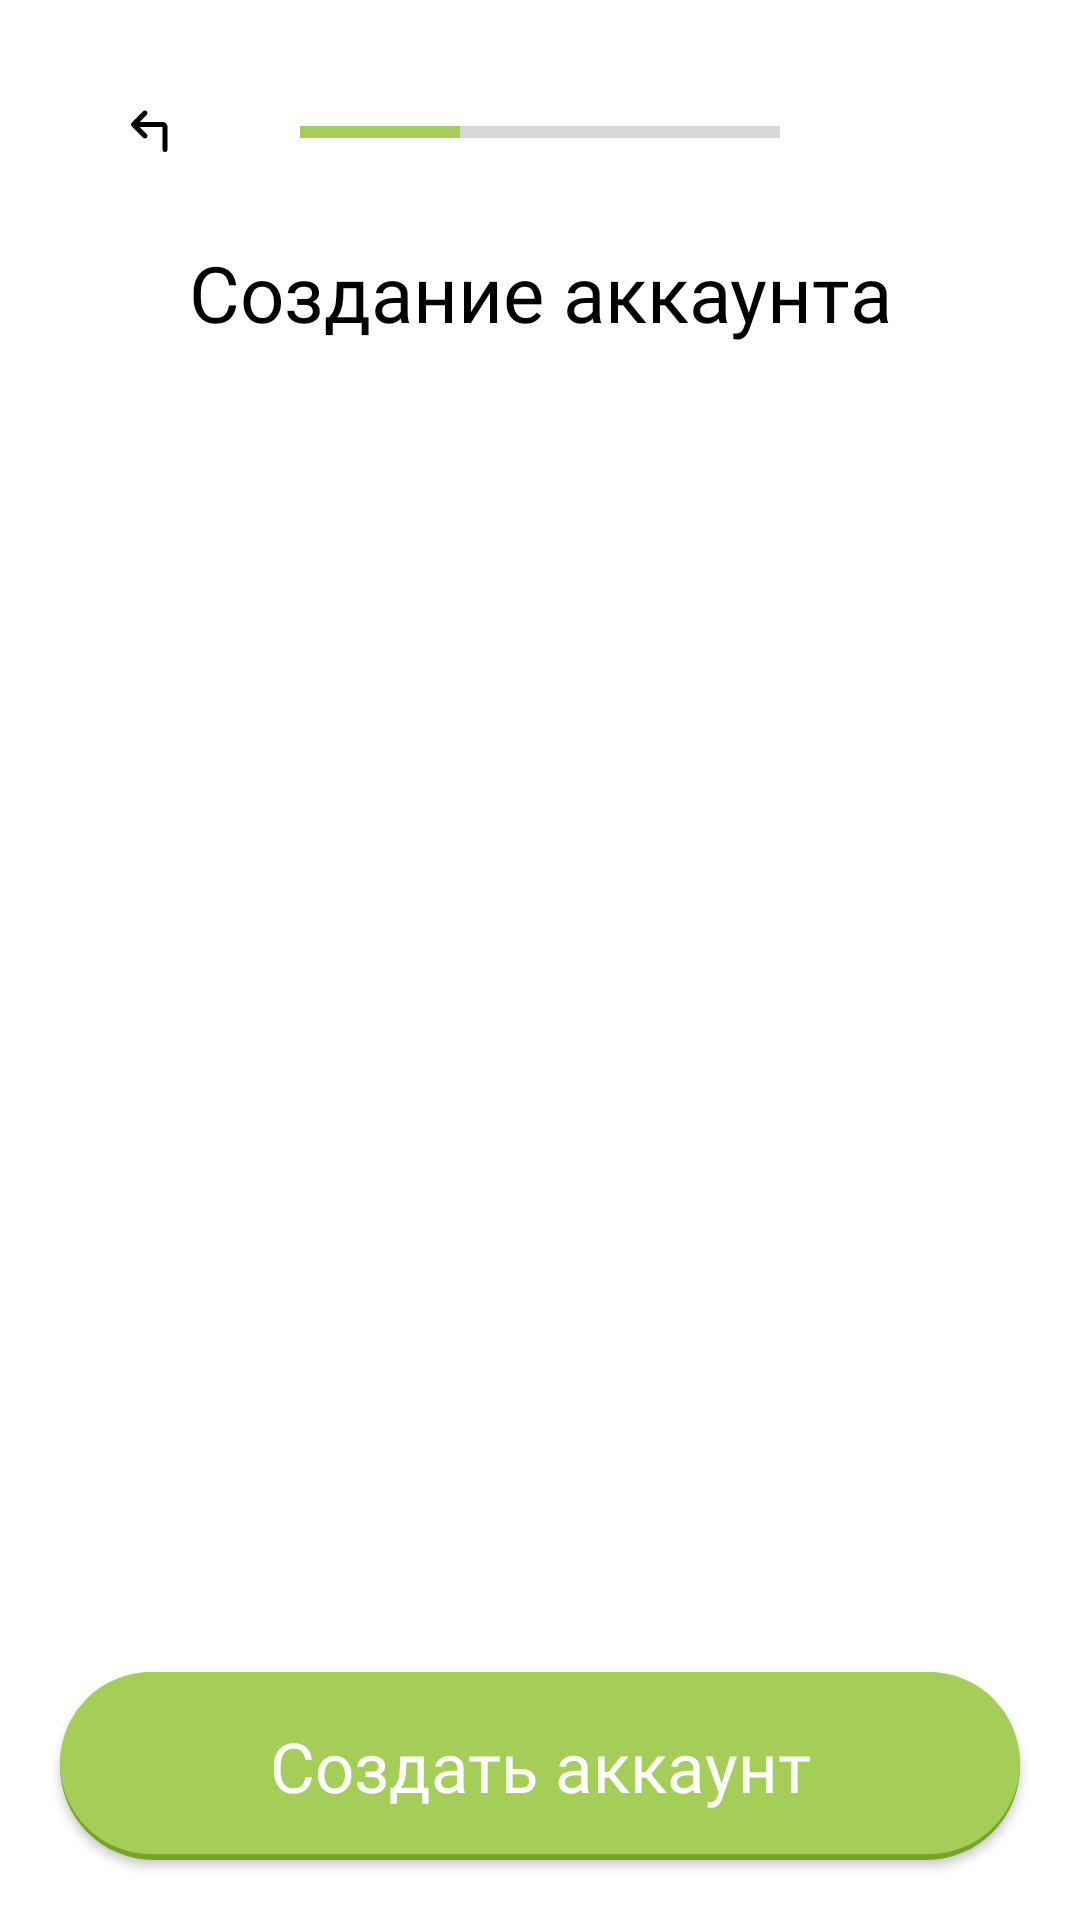

Icon bounding boxes for this 1080px x 1920px phone screenshot, format {"left": x1, "top": y1, "right": x2, "bottom": y2}:
back: {"left": 131, "top": 110, "right": 168, "bottom": 152}
